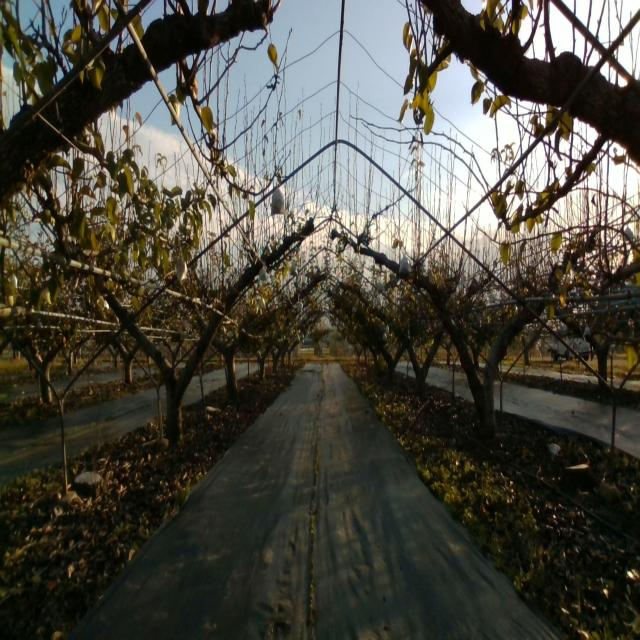pearbags: (270, 182, 287, 216), (175, 260, 188, 283), (398, 254, 411, 276)
